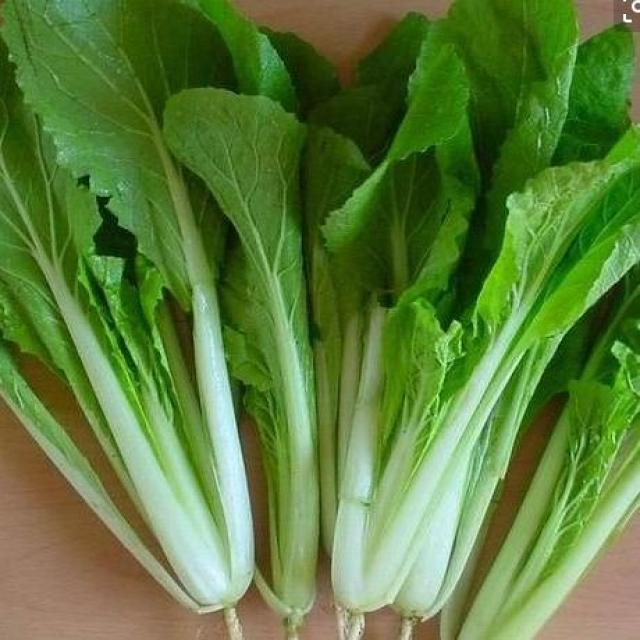-Kitchen waste - vegetable roots and leaves-: (332, 5, 640, 640), (0, 0, 255, 640), (165, 71, 338, 640), (455, 272, 640, 639)
